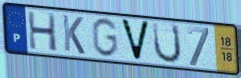7: (186, 25, 211, 67)
G: (90, 16, 119, 59)
H: (26, 10, 60, 53)
K: (61, 13, 87, 57)
U: (151, 21, 183, 65)
V: (118, 17, 152, 63)
